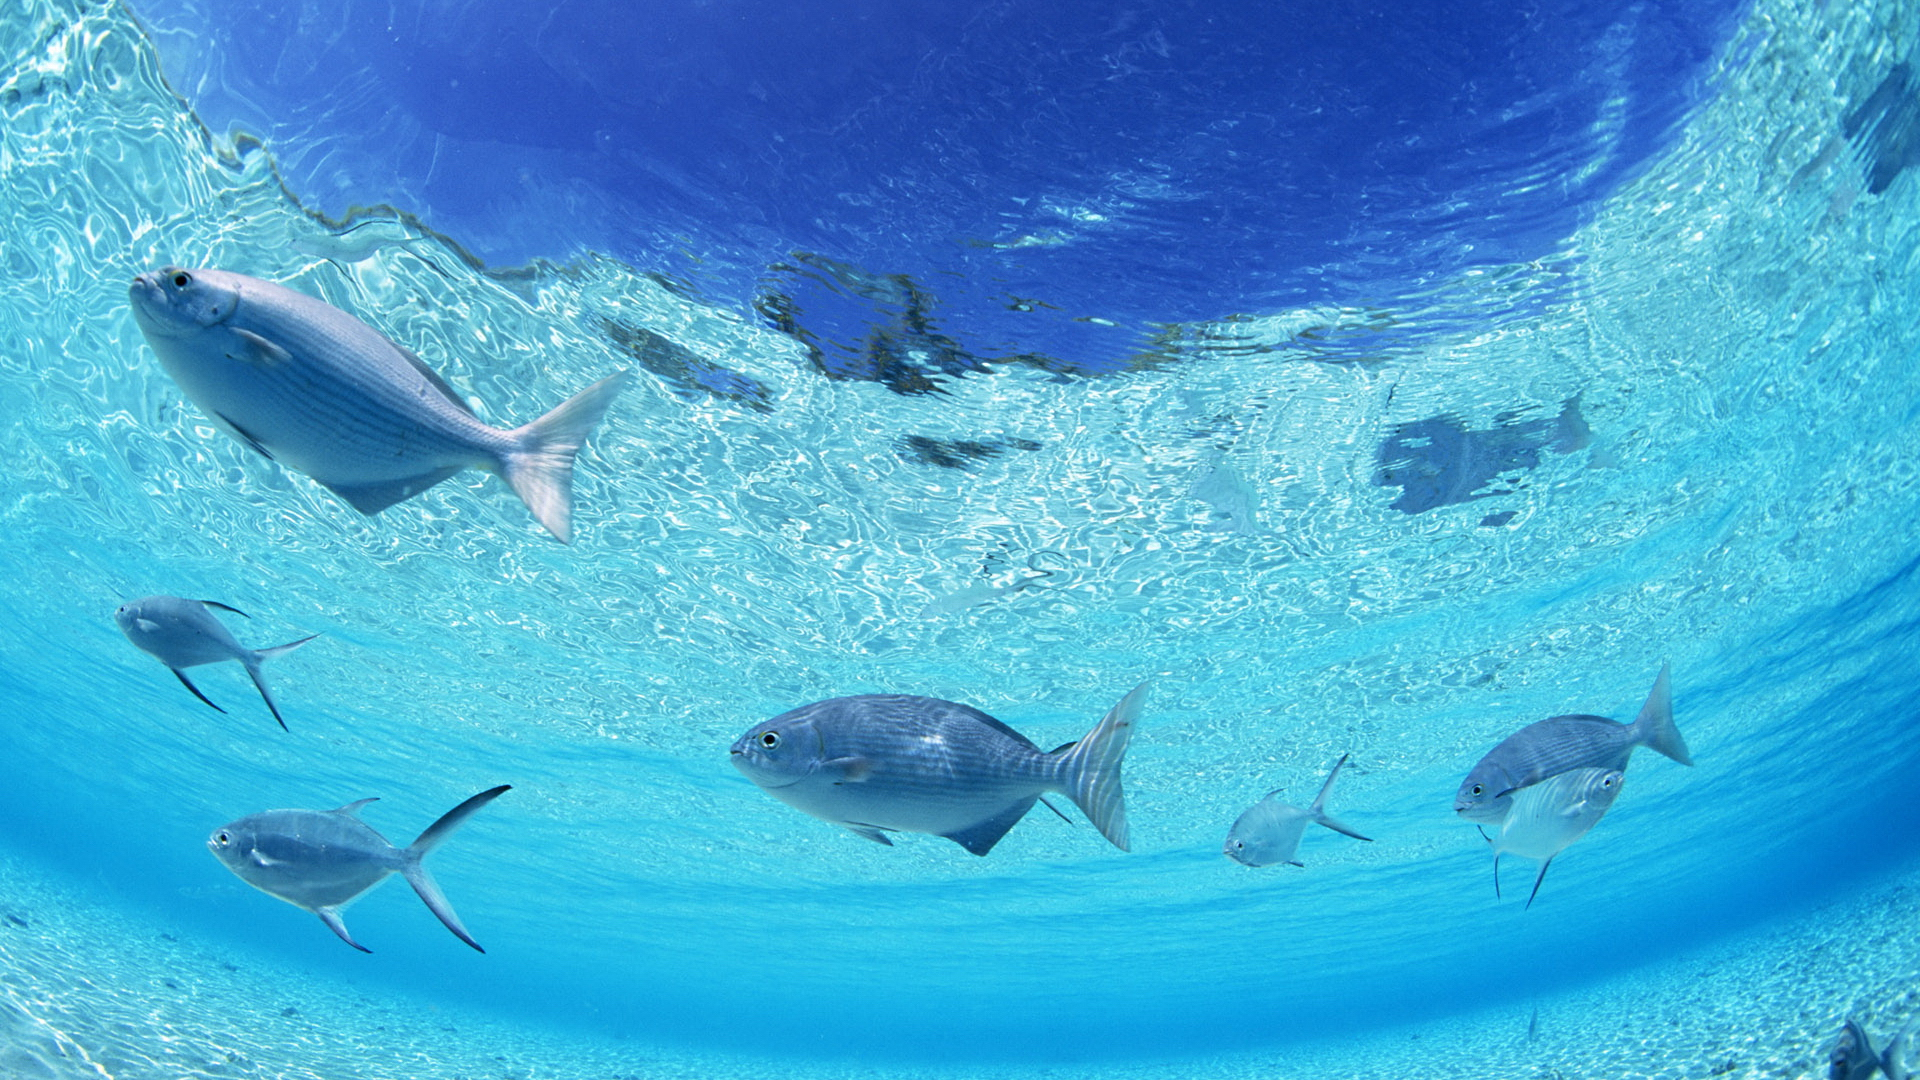fish: (94, 245, 661, 549), (695, 669, 1191, 916), (198, 807, 575, 968), (1437, 703, 1718, 823), (100, 584, 322, 713), (1217, 771, 1391, 909)
